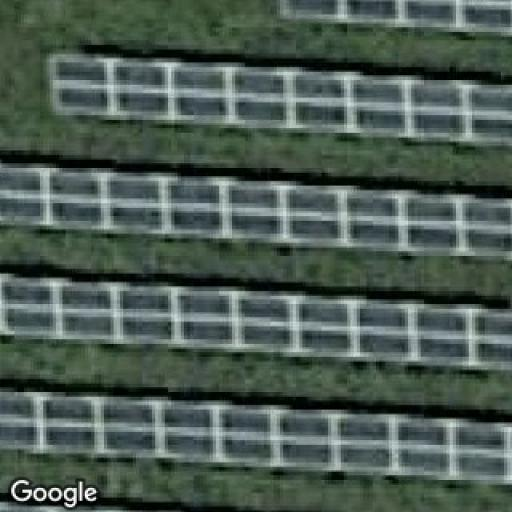solar-panel: (0, 160, 512, 266), (0, 272, 512, 376), (46, 46, 512, 154), (0, 388, 512, 486), (275, 0, 512, 38), (0, 497, 155, 512)
